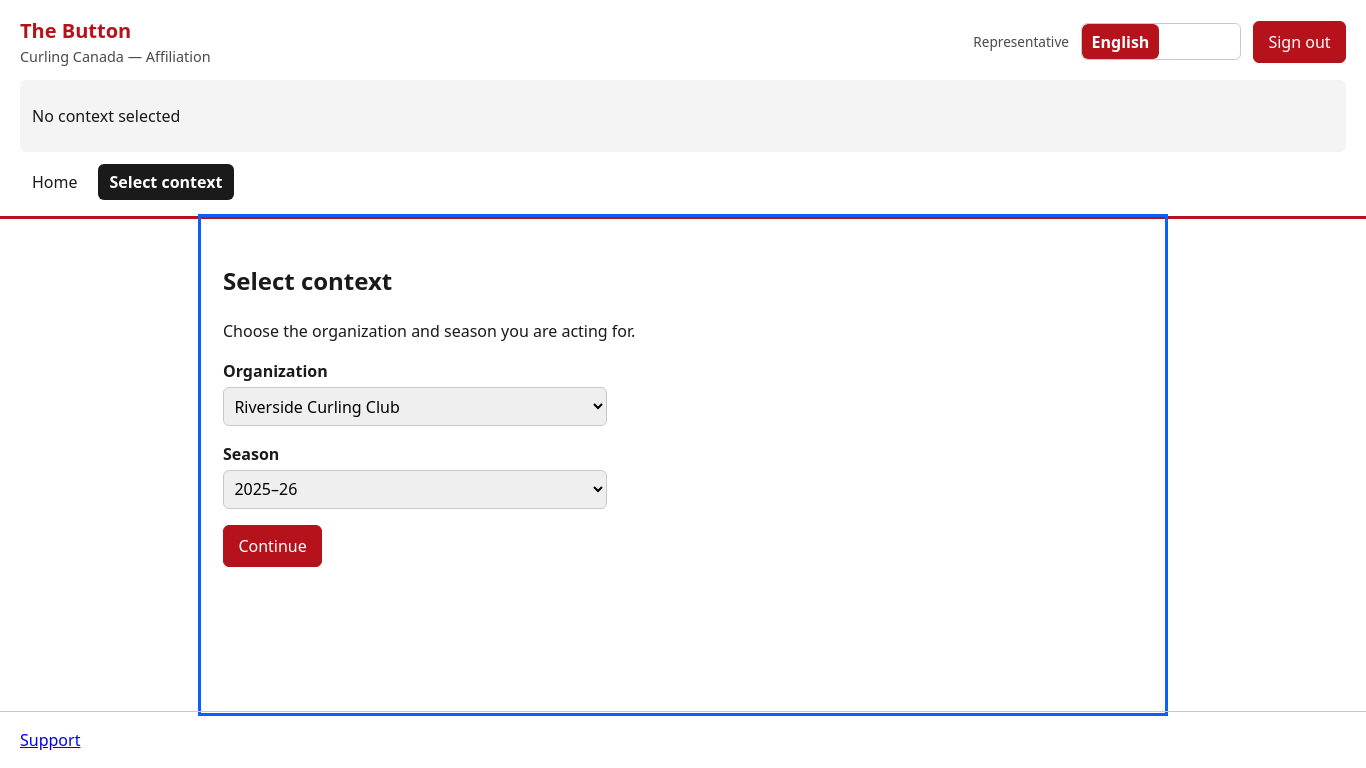
Scenario: Button application shell › (1/9) an authorized representative can select context and reach the affiliation landing via keyboard
This screenshot has width=1366, height=768.
Expected: the dropdown labelled "Organization" is shown, x1=223 y1=387 x2=607 y2=426
Keyboard-only: select the season and submit with Enter.
Step 1. Select "2026–27" in the dropdown labelled "Season" → (415, 489), box x1=223 y1=470 x2=607 y2=509
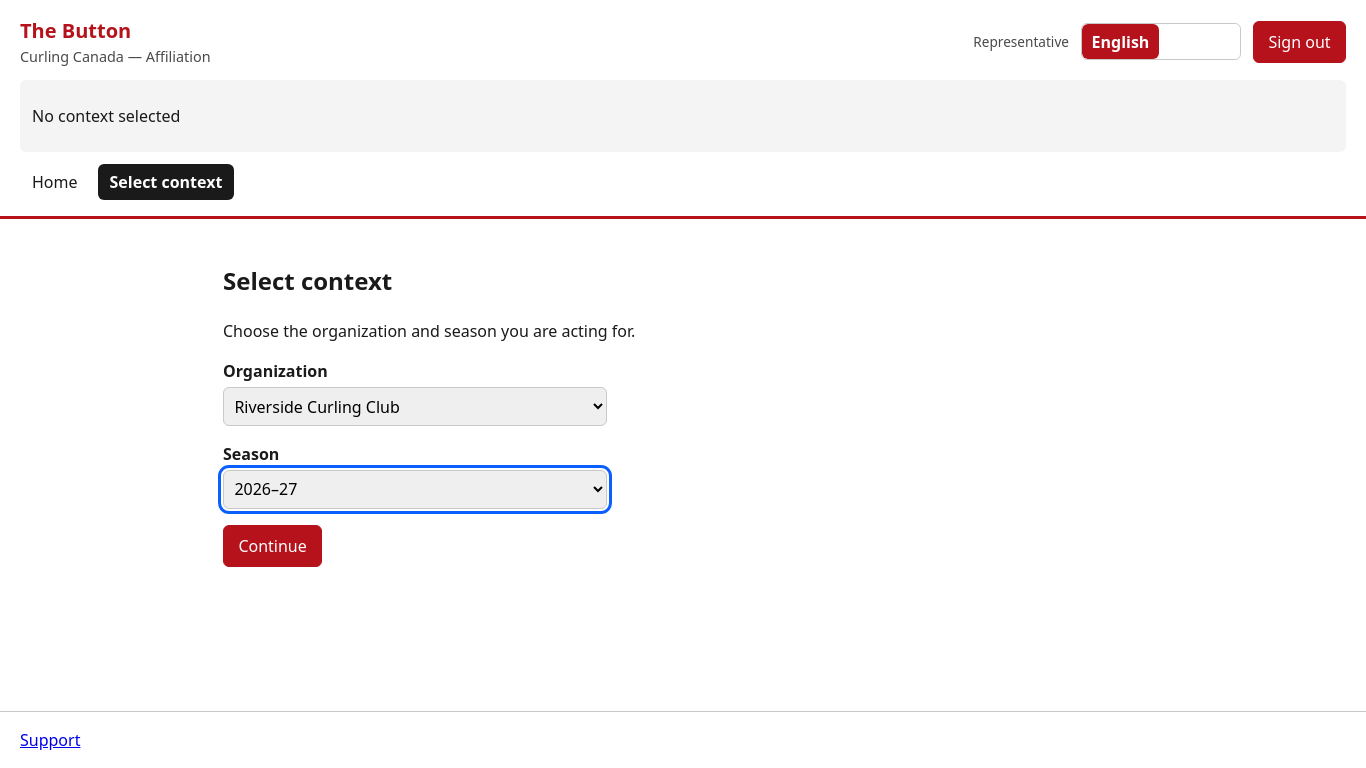
Step 2. Click the button "Continue" → (273, 546), box x1=223 y1=525 x2=322 y2=567
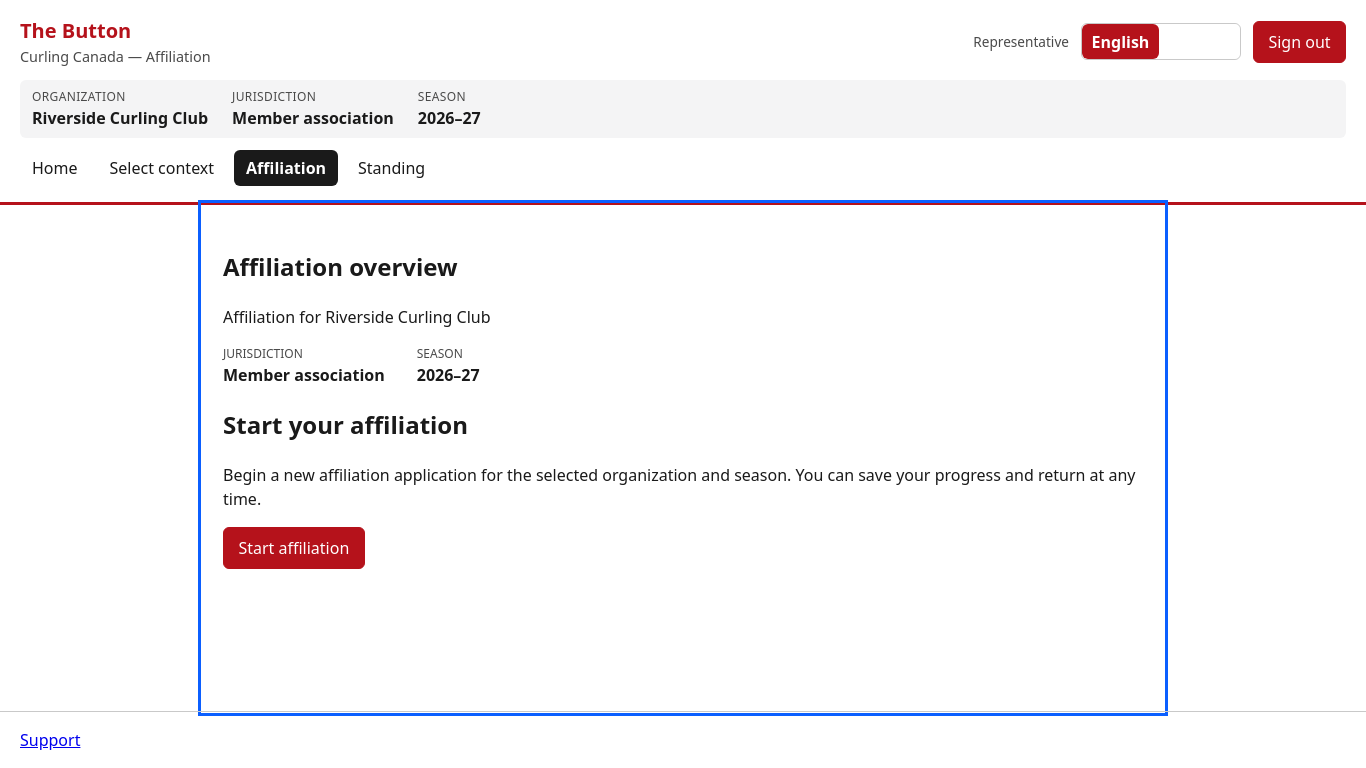
Expected: the heading "Affiliation overview" is shown, x1=223 y1=250 x2=458 y2=283
